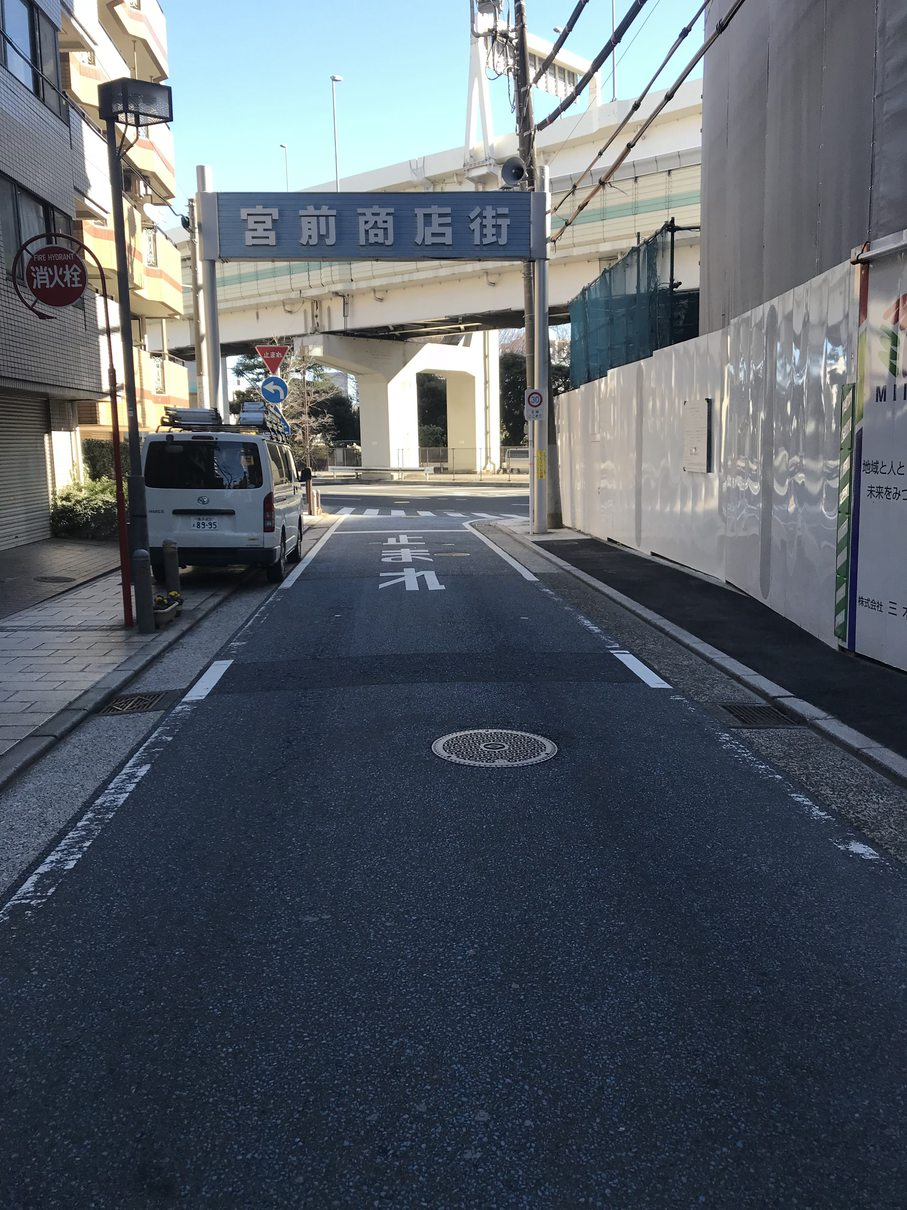stop_sign: (254, 342, 290, 376)
